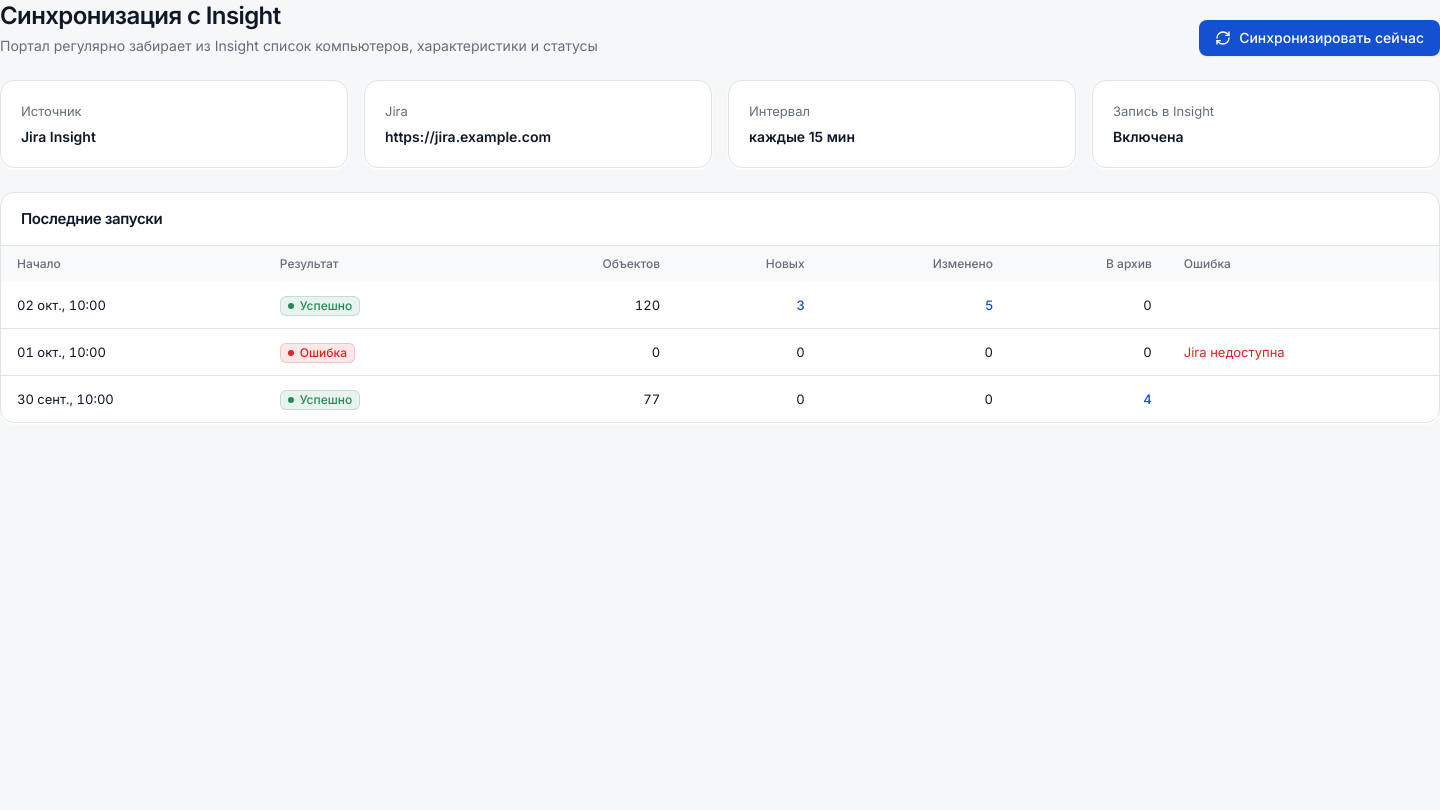
Test: SyncPage: детали запуска › клик по «В архив» открывает вкладку архива
What coordinates should you click on to do the following:
click the button "4"
I would click on:
 (1148, 399)
Its box is [1143, 389, 1152, 409].
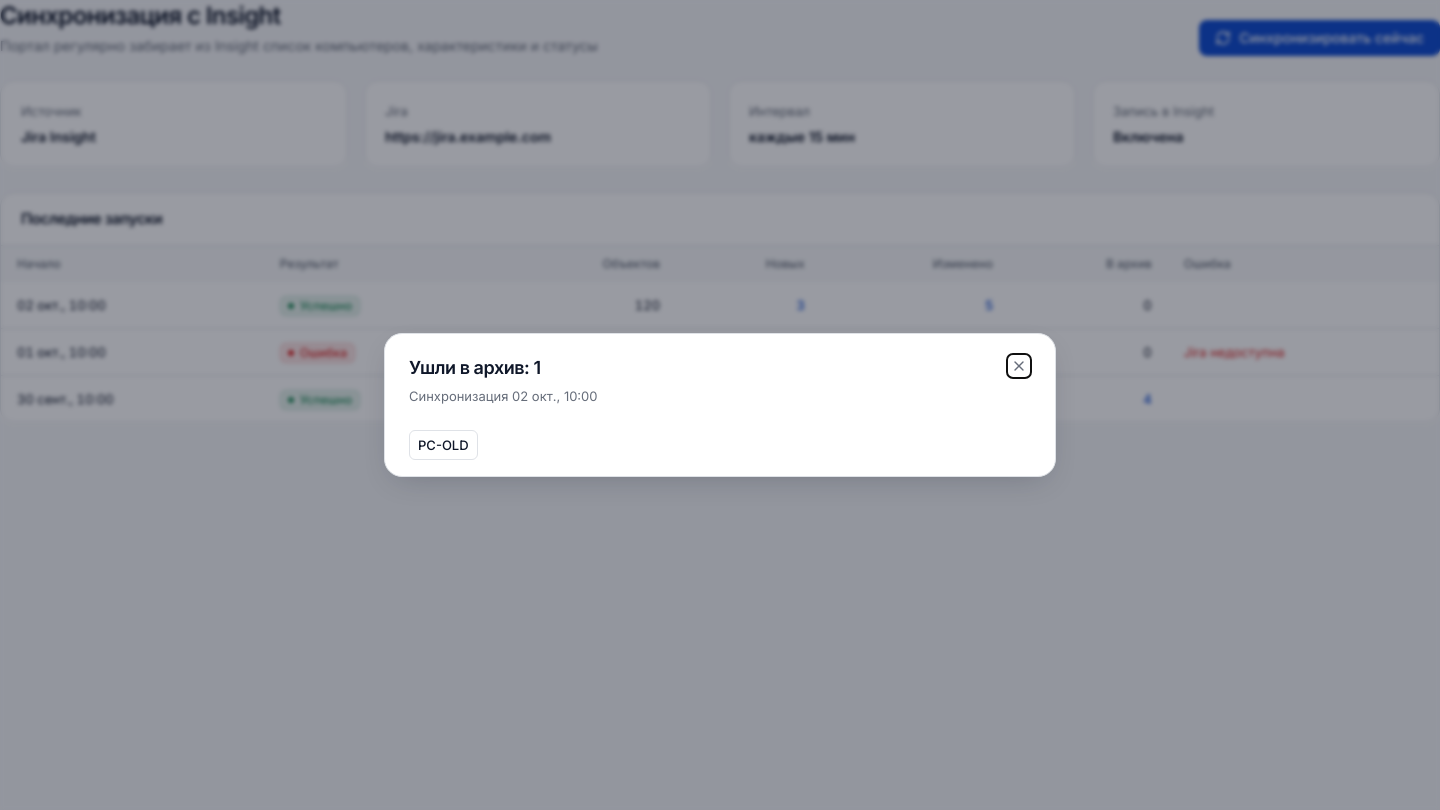
expect the heading "Ушли в архив: 1" is shown: met, box [409, 357, 541, 378]
expect the text "PC-OLD" is shown: met, box [409, 430, 478, 460]
